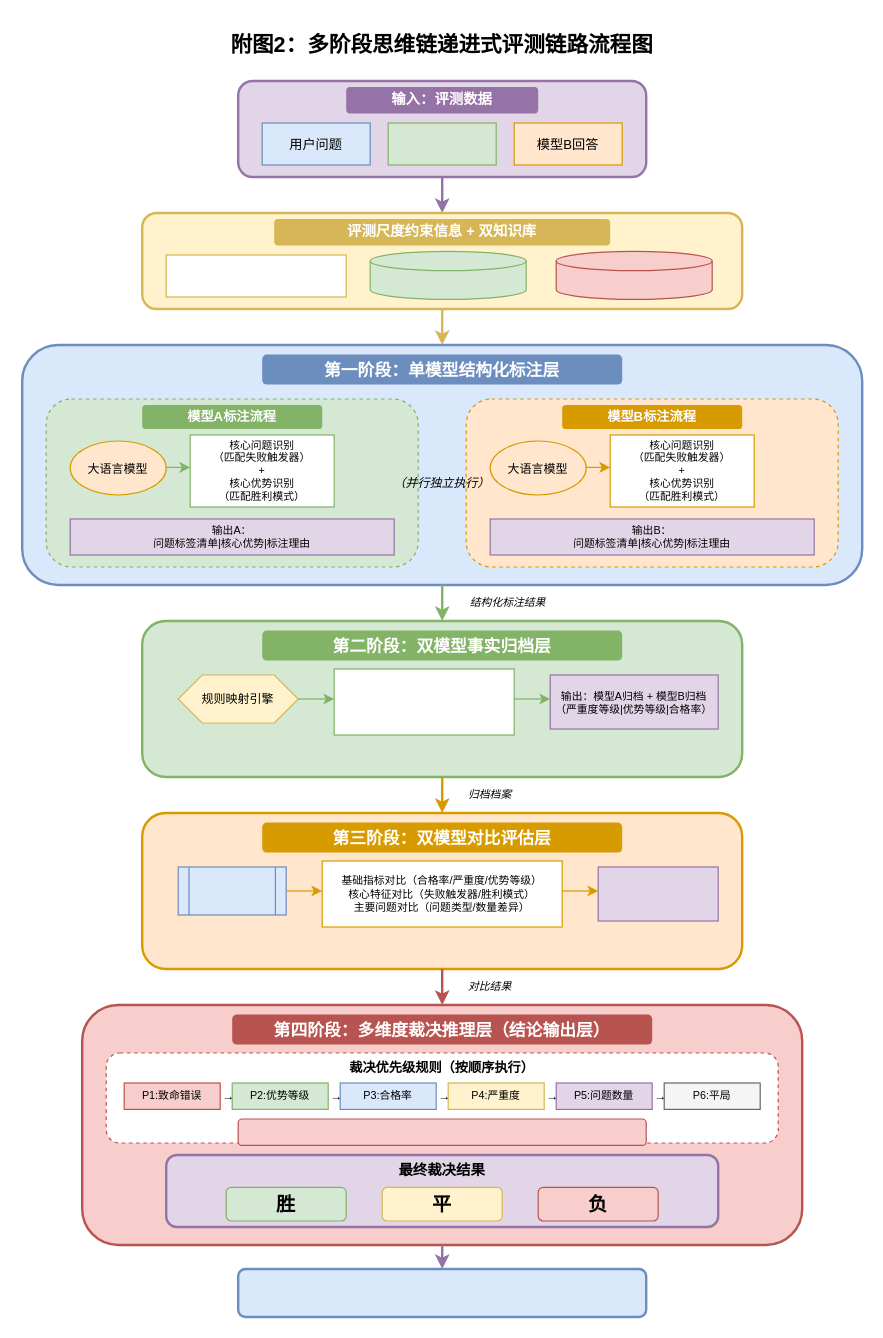
The diagram is 883 pixels wide and 1338 high, and some of its shapes have lost their labels. The shapes that lost their labels are listed below. From the top down, each one's box as (x1, y1, x2, y2) in pixels, then its label:
(387, 122, 496, 165): 模型A回答
(165, 254, 346, 297): 评测尺度约束信息 （场景定义/标签体系/映射规则）
(369, 250, 526, 299): 胜利模式知识库 （核心优势特征）
(555, 250, 712, 299): 失败触发器知识库 （致命错误模式）
(333, 668, 514, 735): 严重度等级映射 优势等级映射 合格率映射 （规则自动执行，无需LLM）
(177, 866, 286, 915): 对比分析
(597, 866, 718, 921): 输出： 结构化对比结果
(237, 1118, 646, 1145): 关键约束：仅基于归档事实裁决，不访问原始输出
(236, 1267, 647, 1318): 输出：综合评分与裁判说明
